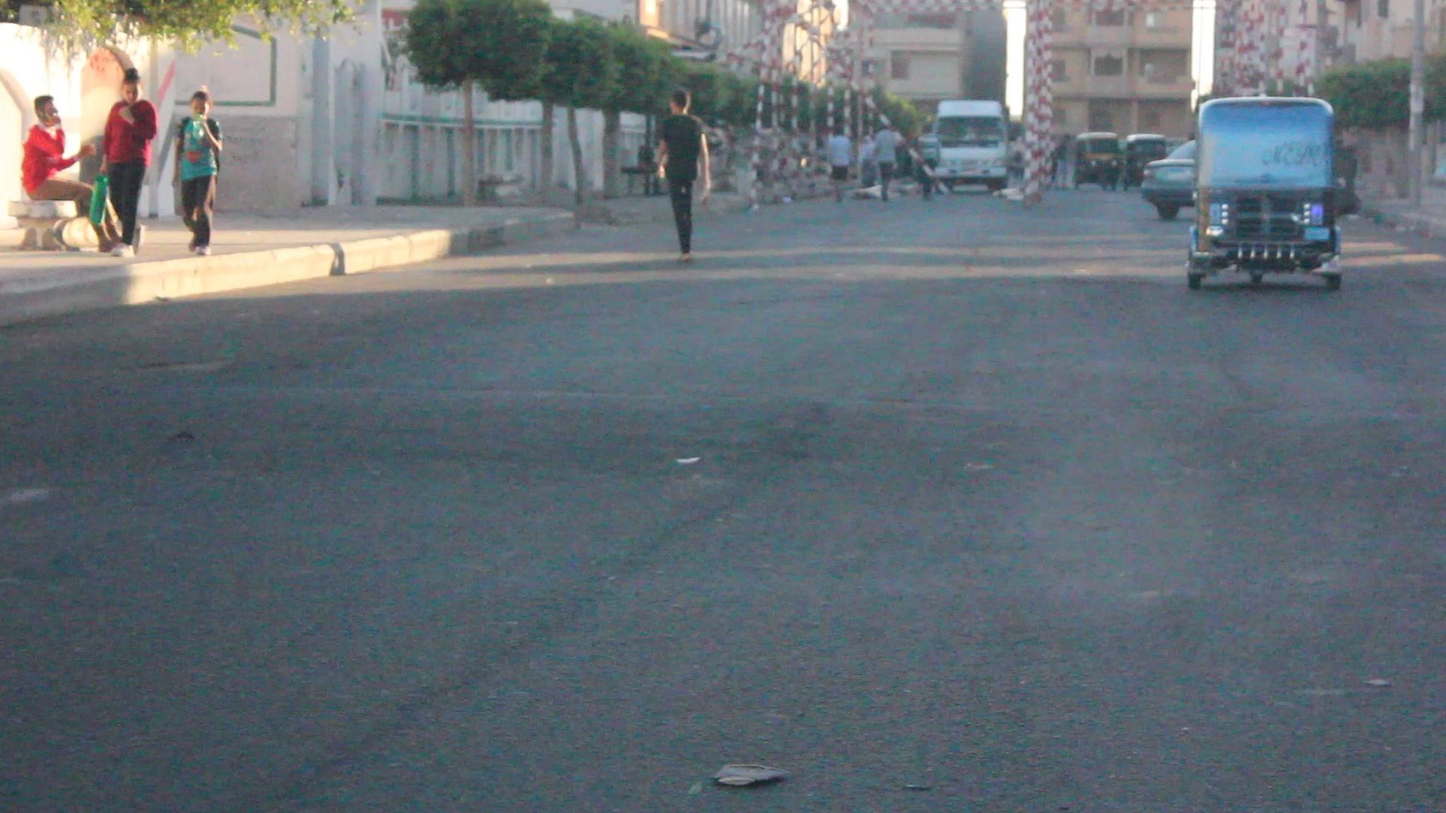Bump: (8, 352, 1446, 486)
